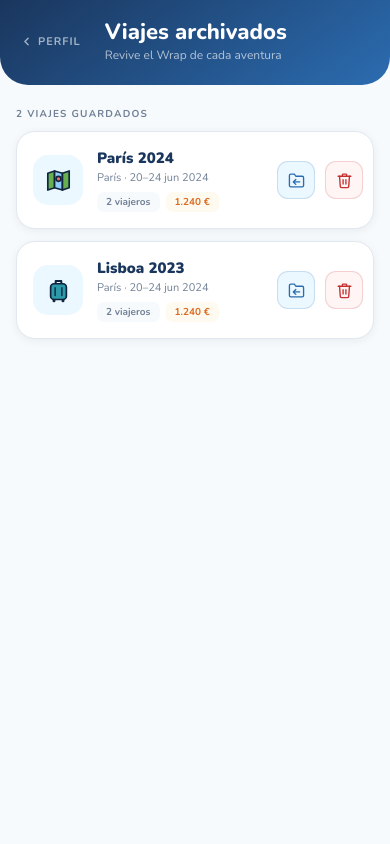
ViajesArchivados · desarchivar con confirmación › al confirmar desarchiva en el backend, lo quita de la lista y no navega
The image size is (390, 844).
Click the button named "Desarchivar París 2024".
click(296, 180)  # box [277,161,315,199]
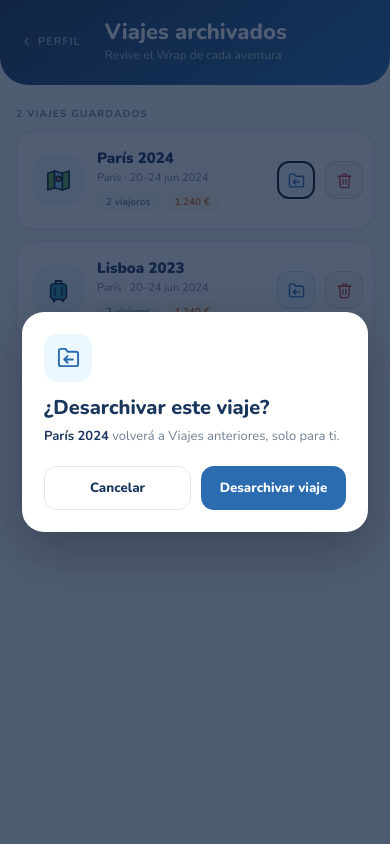
Click the button "Desarchivar viaje".
click(274, 488)  # box [201,466,346,510]
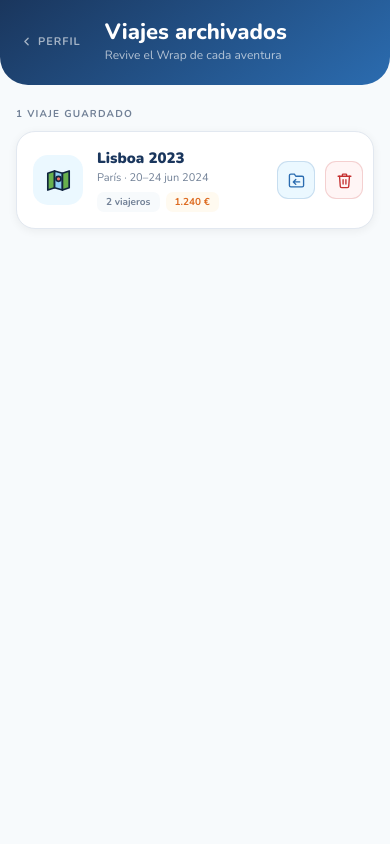
expect the button "París 2024" is gone: met
expect the text "1 viaje guardado" is shown: met, box [16,107,133,121]
expect the dialog is gone: met
